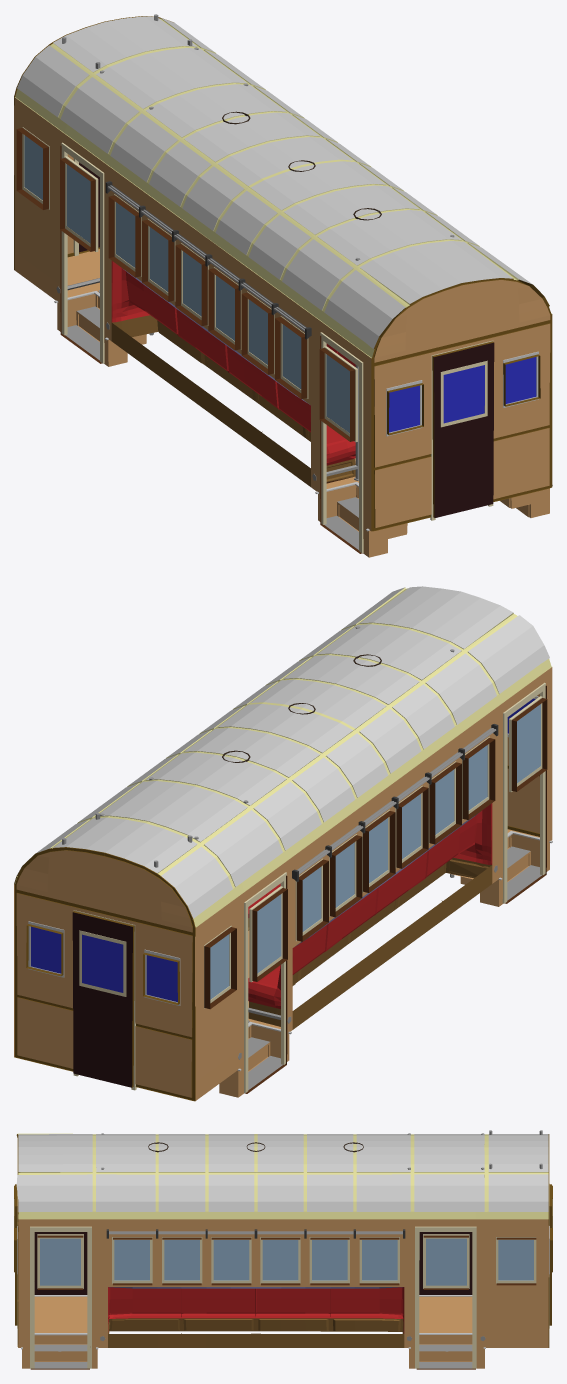
Rendered from Train_Cart_Test_Model.fbx.
3 views of the same model, one above another, from view 1: azimuth 30°, elevation 25°; view 2: azimuth 150°, elevation 25°; view 3: azimuth 270°, elevation 25° (orthographic). The views are drawn at different scales.
Visible parts, largest first — view 1: Cart; view 2: Cart; view 3: Cart.
Part boxes in pixels (<box>): Cart: <box>14,14,552,557</box>; Cart: <box>14,586,552,1101</box>; Cart: <box>14,1130,552,1369</box>.
Size of the model in its own units: 533 by 657 by 1696.
